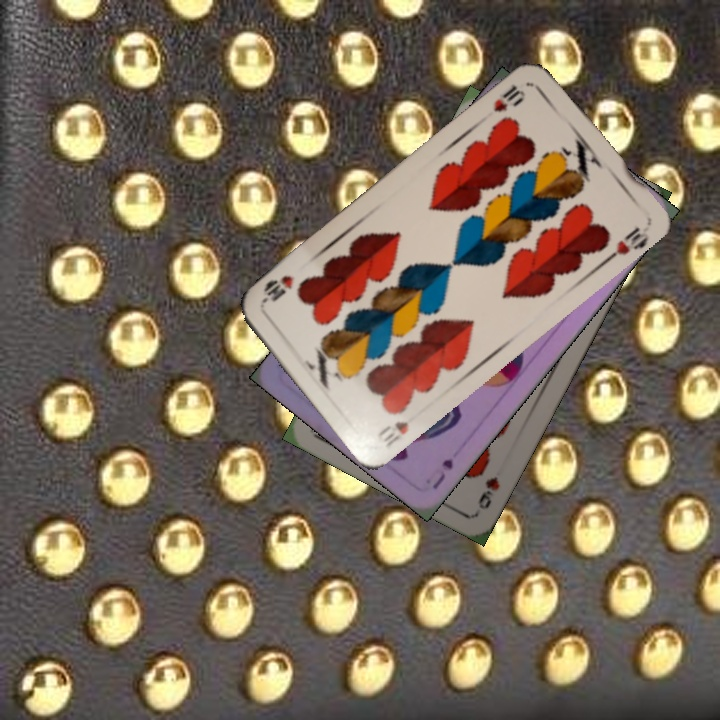H10: (489, 80, 528, 115), (372, 417, 411, 449)
H9: (473, 472, 503, 513)
SU: (427, 455, 456, 493)
